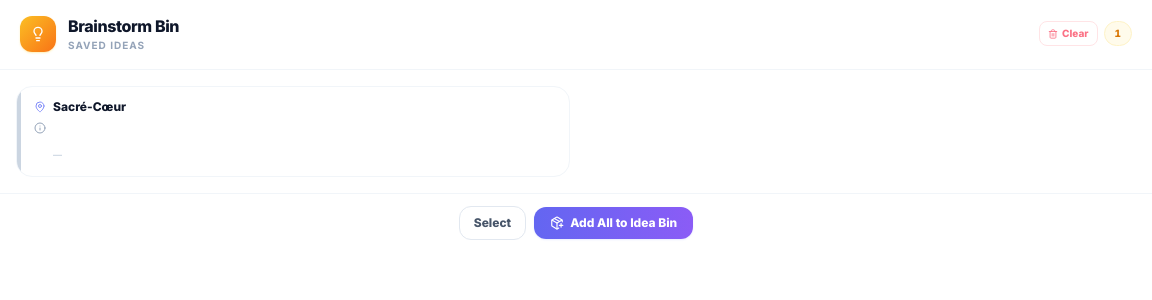
BrainstormBin — clear all › requires a double-click confirmation before clearing
The image size is (1152, 300).
Expected: the text "Sacré-Cœur" is shown, 53,99 -> 126,114
// First click → enter confirm state
Click the button titled "Clear all items" at (1068, 34), box 1039,21 -> 1098,46
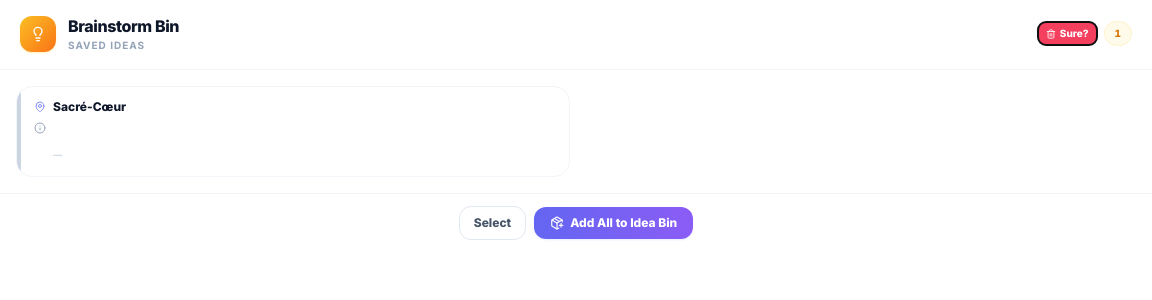
Now the button titled "Click again to confirm" is shown
Click the button titled "Click again to confirm" at (1067, 34), box 1037,21 -> 1098,46
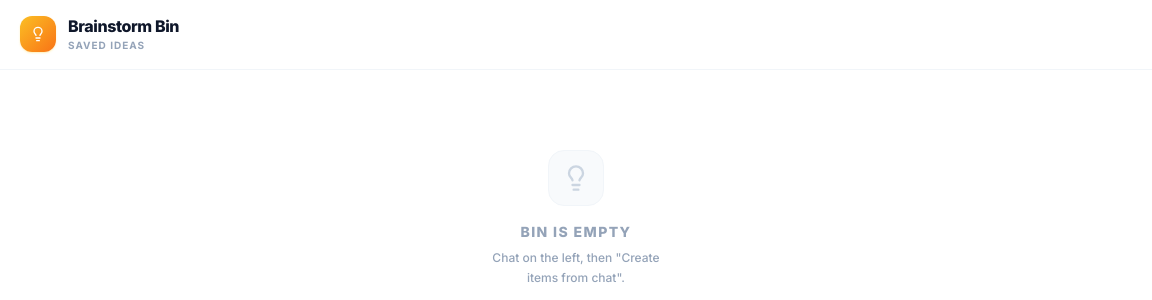
Now the text "Sacré-Cœur" is gone
